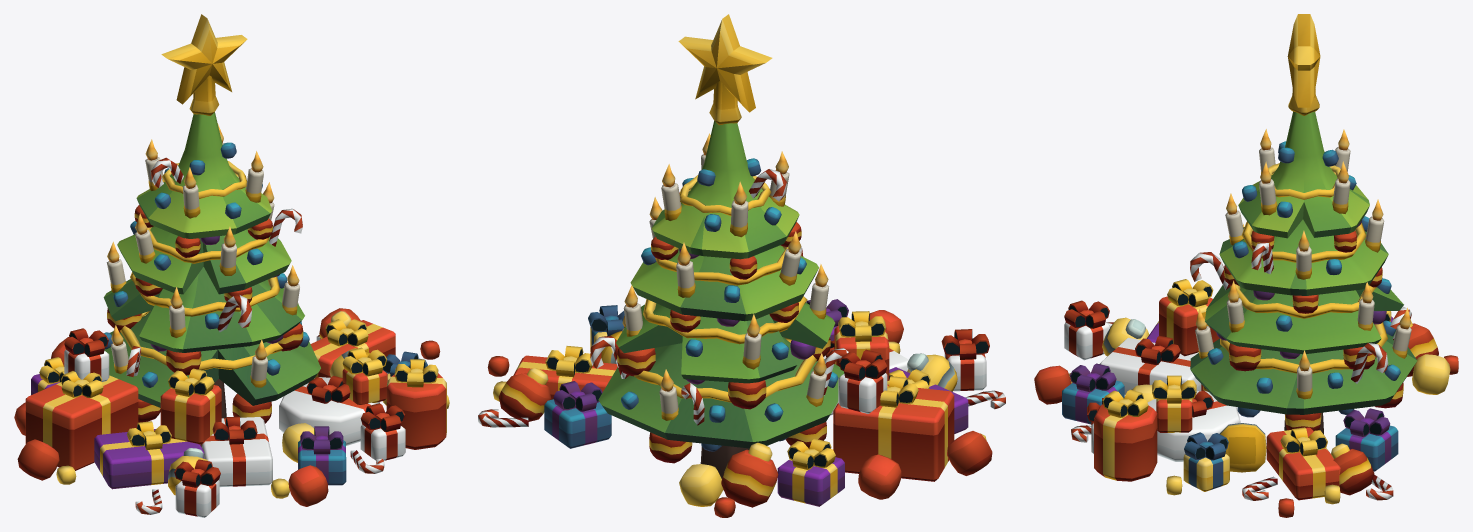
Rendered from arrangement.fbx.
The picture shows the model from 3 angles, left to right: view 1: azimuth 30°, elevation 25°; view 2: azimuth 150°, elevation 25°; view 3: azimuth 270°, elevation 25°; orthographic projection. The views are drawn at different scales.
Visible parts, largest first — view 1: arrangement; view 2: arrangement; view 3: arrangement.
Boxes of the visible parts, x1=… form: arrangement: x1=14, y1=14, x2=449, y2=517; arrangement: x1=478, y1=14, x2=1005, y2=517; arrangement: x1=1034, y1=14, x2=1458, y2=517.
Bounding box in the file's own units: 788 × 741 × 654.
Materials: 1 (1 with a texture image).
